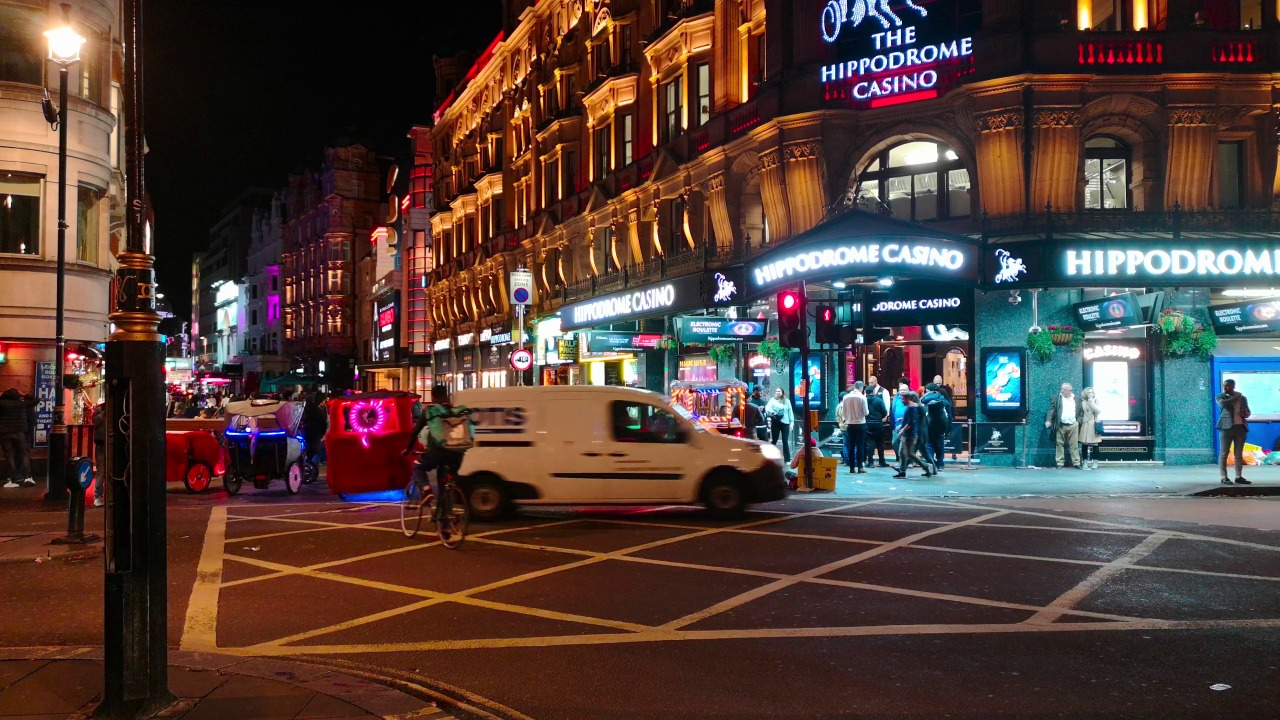car: (475, 388, 805, 543), (242, 406, 314, 506), (334, 395, 396, 493), (171, 435, 219, 493), (702, 391, 736, 416)
person: (423, 387, 459, 522), (1218, 374, 1250, 506), (1056, 363, 1086, 490), (847, 379, 872, 486), (1079, 384, 1110, 448), (928, 393, 953, 459), (766, 377, 792, 429), (876, 390, 890, 457), (805, 435, 830, 466), (890, 380, 908, 417), (903, 401, 912, 464), (749, 397, 764, 431), (934, 360, 950, 390), (872, 369, 889, 394), (749, 371, 763, 393)
